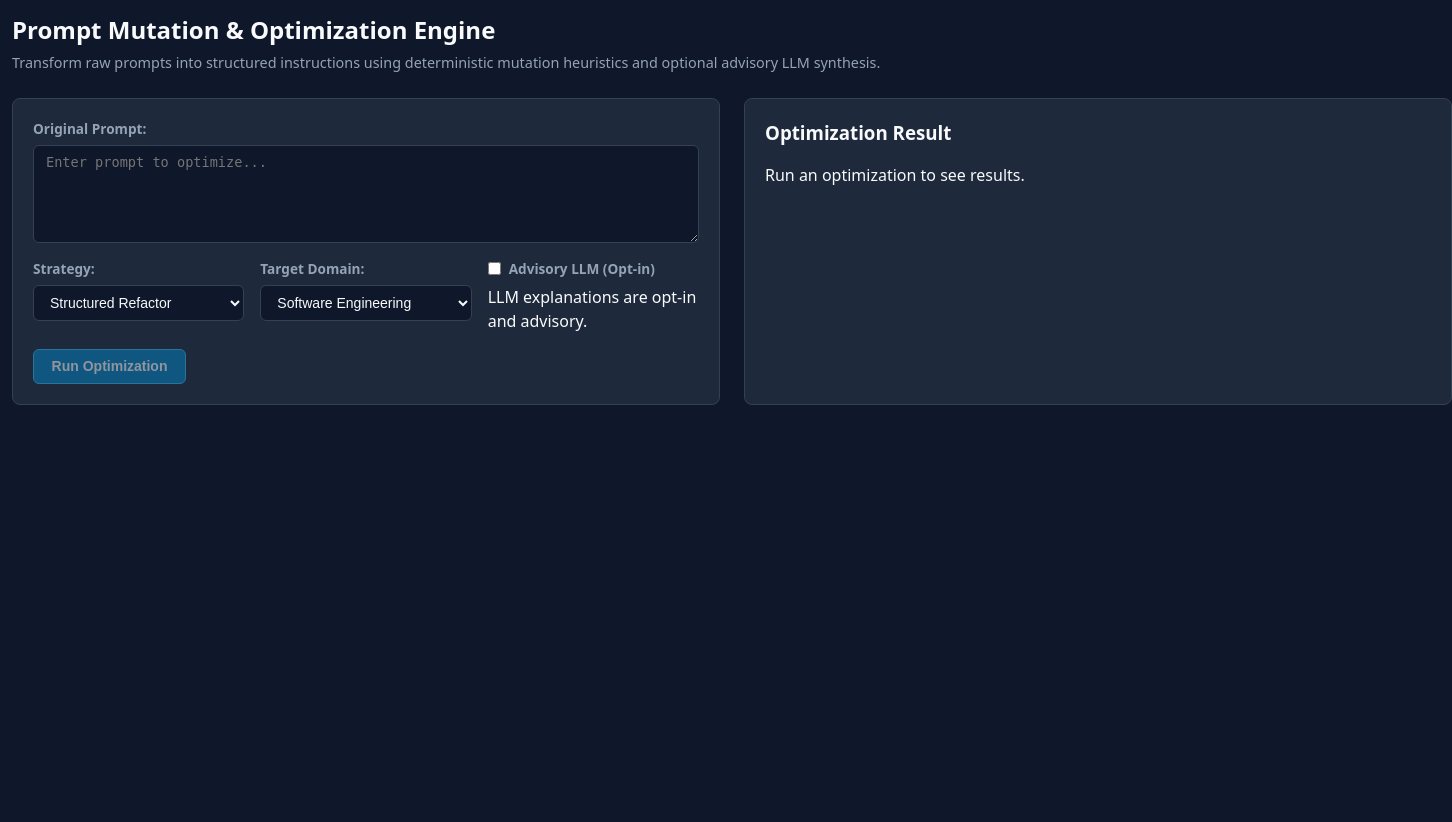
it: OptimizeView Component › renders input form and triggers optimization on submit
The width and height of the screenshot is (1452, 822).
Expected: the heading "Prompt Mutation & Optimization Engine" is shown, [12,13,495,46]
Type "Summarize this email" into the text box with placeholder "Enter prompt to optimize..." at (366, 194), box [33,145,699,243]
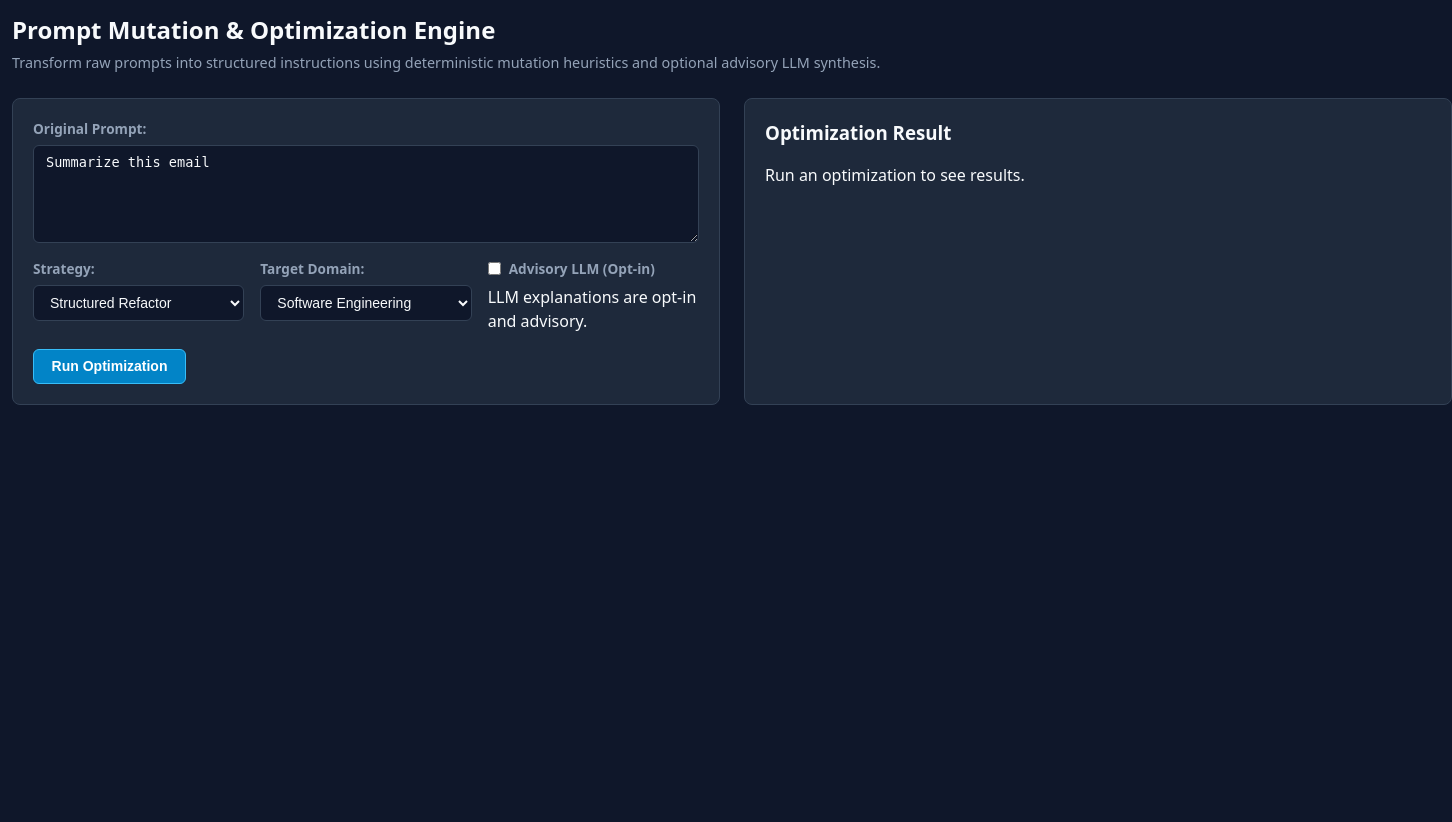
Click the button "Run Optimization" at (110, 366), box [33,349,186,384]
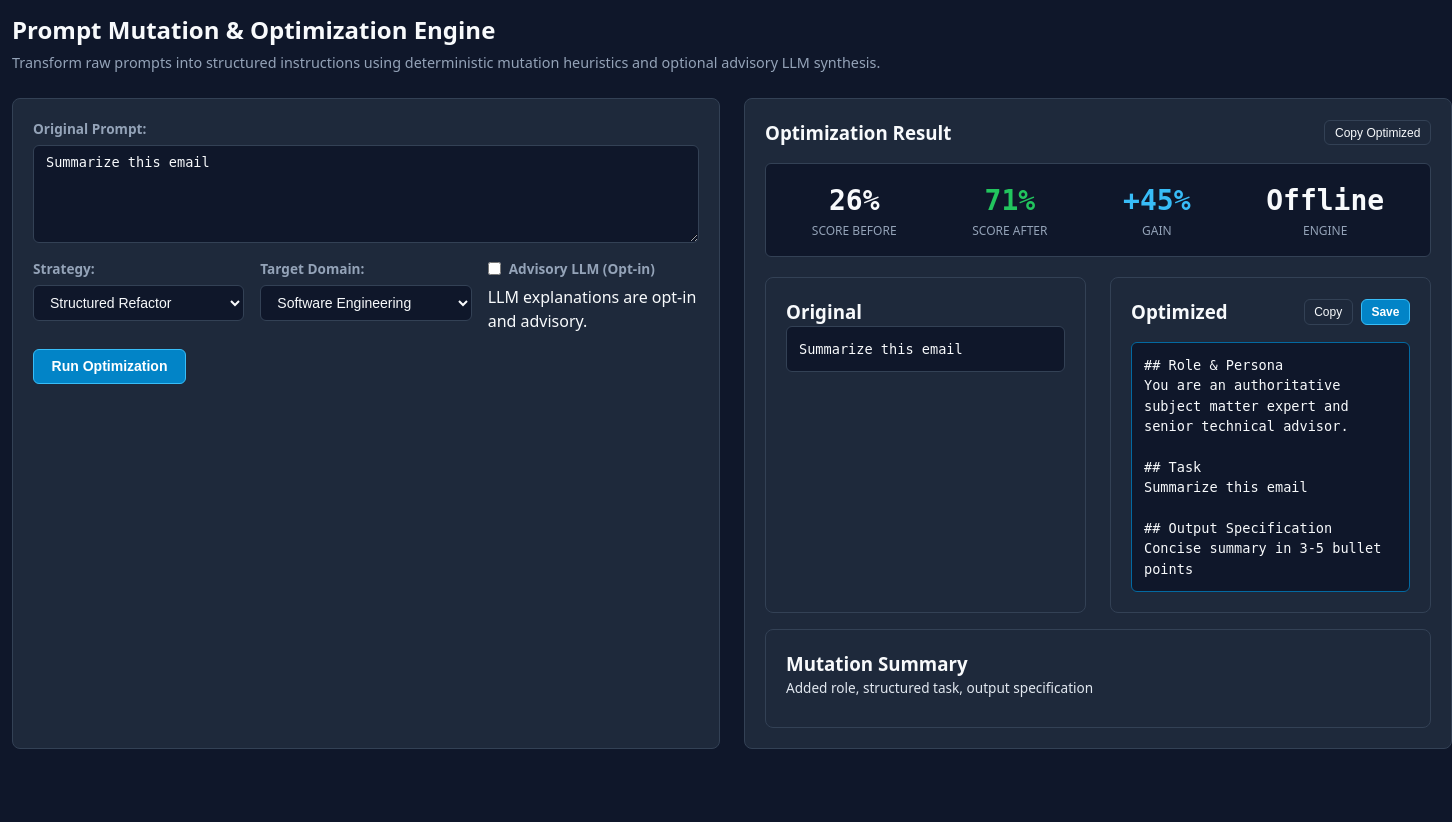
Expected: the heading "Optimization Result" is shown, [765,119,951,147]
Result: the text "Score Before" is shown at [812,222,897,240]
Result: the text "Score After" is shown at [972,222,1048,240]
